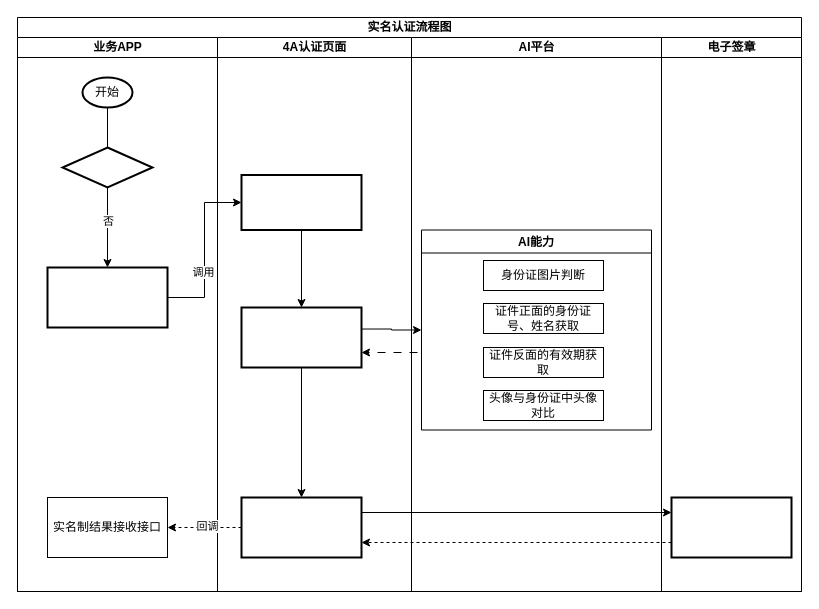
Some shapes in this 819 by 609 pixel diagram are drawn without their labels. Each missing label, with the box of its shape:
个人身份认证: (670, 496, 792, 558)
人脸识别页面: (240, 174, 362, 230)
实名认证: (240, 496, 362, 558)
是否实名: (61, 146, 153, 188)
证件认证: (240, 306, 362, 368)
进行实名认证: (46, 266, 168, 328)
